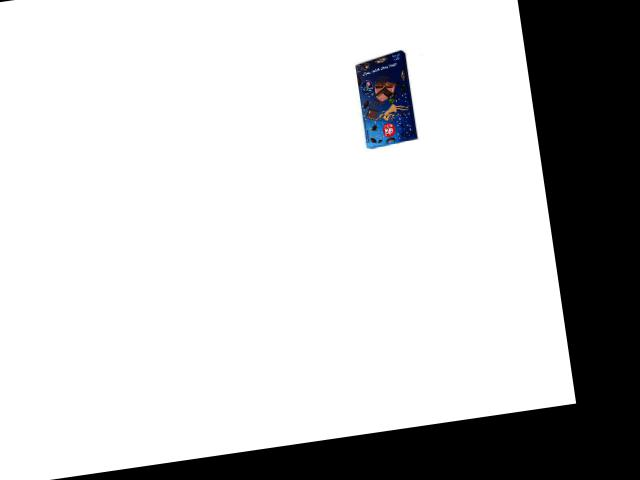chocolate: (347, 48, 424, 152)
